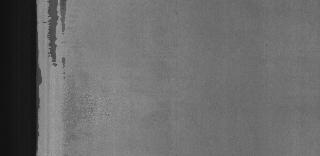oil spot: (45, 0, 75, 78)
